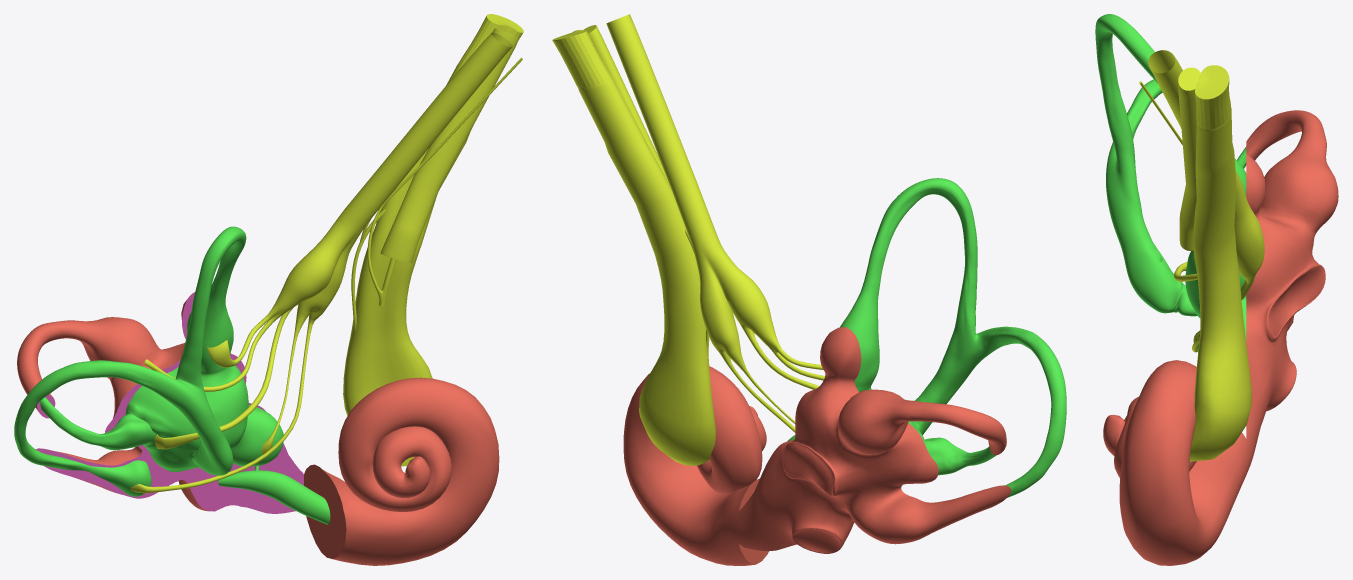
File: inner ear cros ssection.glb
The picture shows the model from 3 angles, left to right: view 1: azimuth 30°, elevation 25°; view 2: azimuth 150°, elevation 25°; view 3: azimuth 270°, elevation 25°; orthographic projection. The views are drawn at different scales.
Visible parts, largest first — view 1: _gltfNode_0, _gltfNode_11, _gltfNode_6, _gltfNode_0.001; view 2: _gltfNode_0, _gltfNode_11, _gltfNode_6; view 3: _gltfNode_0, _gltfNode_11, _gltfNode_6.
Part boxes in pixels (x1,y1,x2,y2): _gltfNode_0: (17, 296, 499, 565); _gltfNode_11: (130, 14, 523, 493); _gltfNode_6: (14, 226, 330, 524); _gltfNode_0.001: (36, 292, 303, 513); _gltfNode_0: (623, 327, 1011, 565); _gltfNode_11: (552, 14, 824, 465); _gltfNode_6: (787, 178, 1066, 497); _gltfNode_0: (1103, 110, 1338, 565); _gltfNode_11: (1139, 50, 1264, 461); _gltfNode_6: (1095, 14, 1246, 351).
Bounding box in the file's own units: 5.12 × 4.93 × 1.95.
